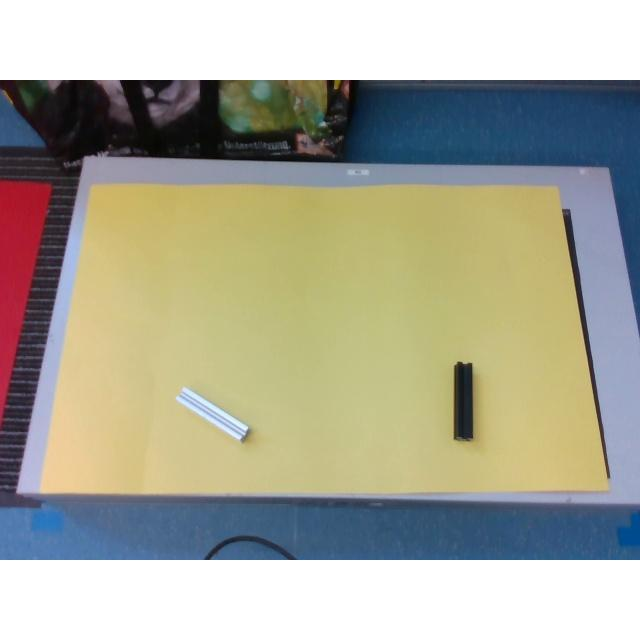F20_20_B: (453, 362, 473, 438)
F20_20_G: (175, 388, 249, 440)
